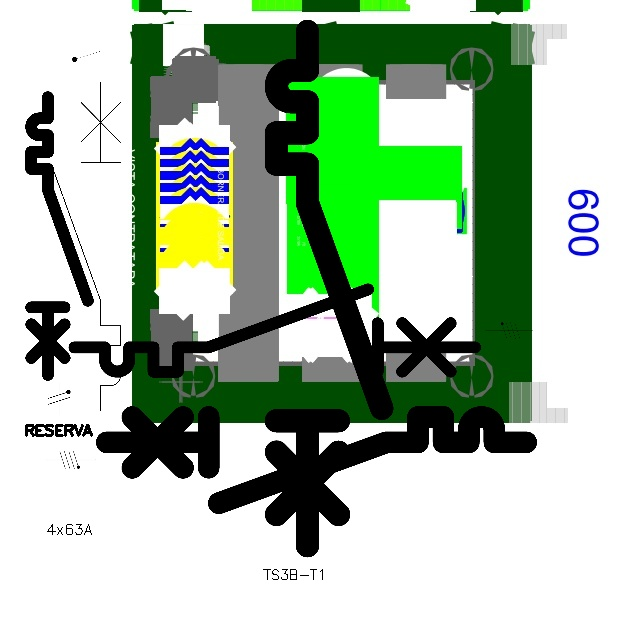interruptor_termomagnetico: (263, 18, 395, 559), (95, 406, 536, 514), (64, 279, 485, 382), (45, 74, 129, 419), (24, 90, 95, 382)
